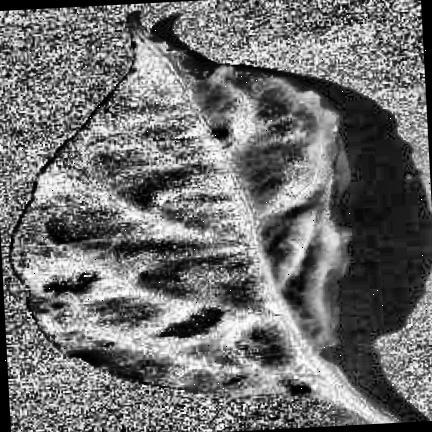leaf: (10, 12, 399, 422)
